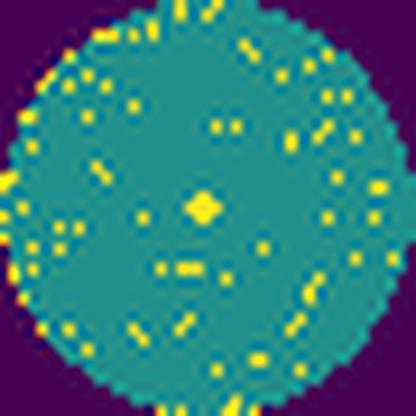Center: (174, 185, 236, 235)
